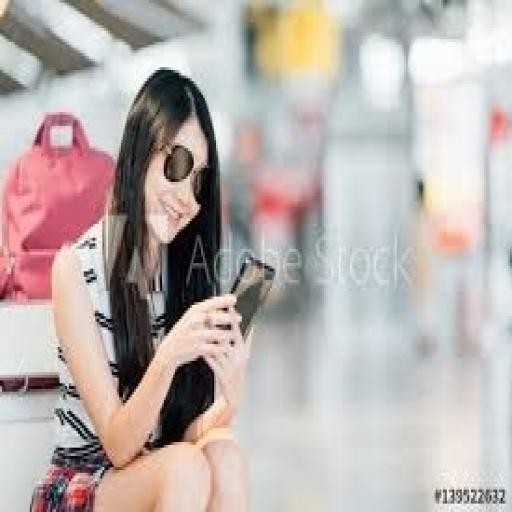texting: (26, 64, 253, 510)
